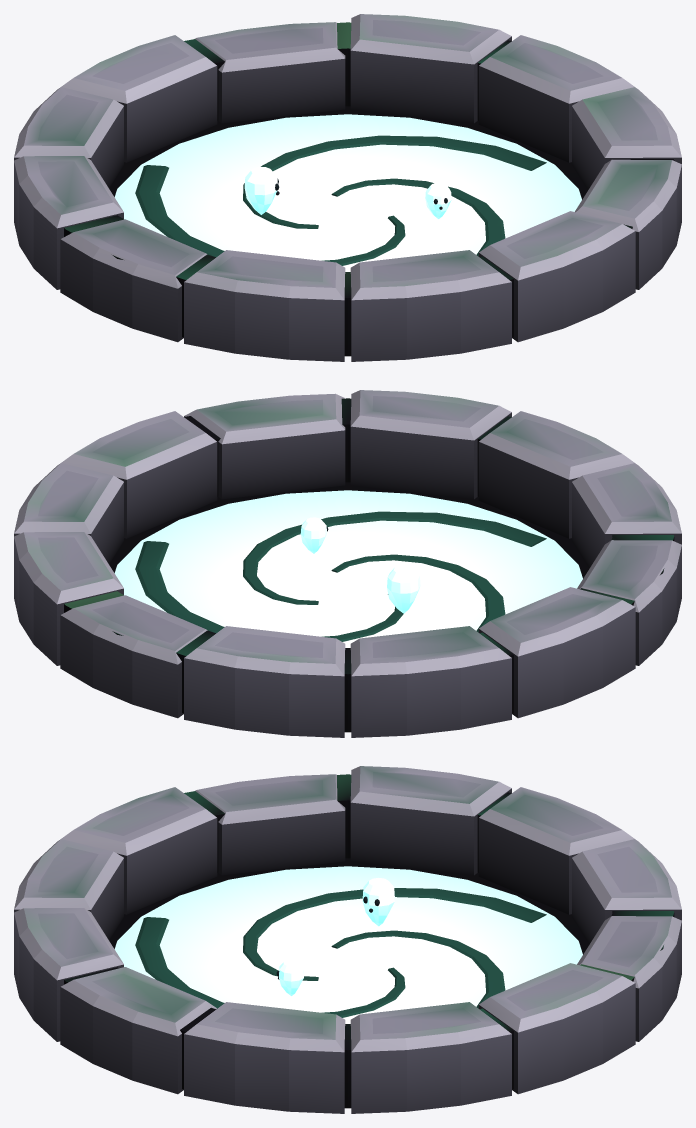
Rendered from updraft_vent_haunted.glb.
3 renders of one model, top to bottom at view 1: azimuth 30°, elevation 25°; view 2: azimuth 150°, elevation 25°; view 3: azimuth 270°, elevation 25°, orthographic.
Parts seen in each view (by area): view 1: updraft_vent_haunted; view 2: updraft_vent_haunted; view 3: updraft_vent_haunted.
Part boxes in pixels (x1=…): updraft_vent_haunted: x1=14, y1=14, x2=681, y2=361; updraft_vent_haunted: x1=14, y1=390, x2=681, y2=737; updraft_vent_haunted: x1=14, y1=766, x2=681, y2=1113.
Size of the model in its own units: 2.6 by 0.3 by 2.6.
